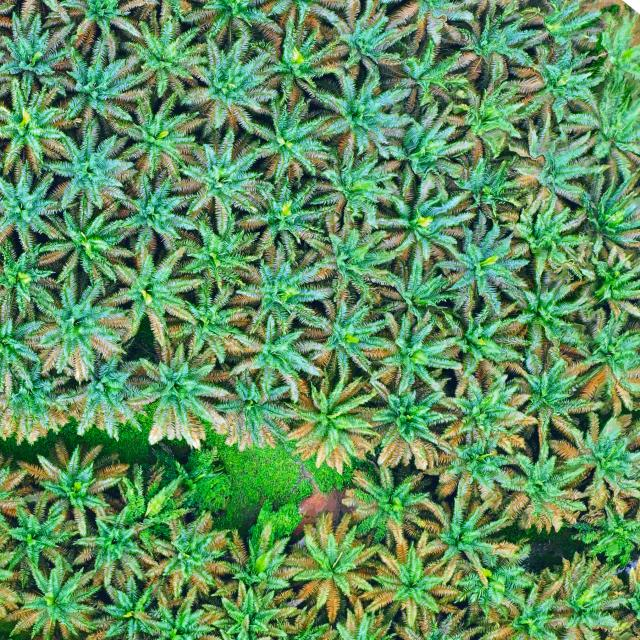Tree: (39, 30, 158, 142), (24, 271, 133, 384), (94, 239, 205, 348), (281, 513, 383, 629), (124, 342, 232, 451), (536, 403, 640, 515), (15, 438, 130, 537), (503, 112, 615, 211), (428, 427, 538, 527), (250, 13, 353, 116), (180, 128, 276, 236), (181, 31, 279, 136), (432, 371, 541, 465), (106, 88, 210, 184), (498, 435, 593, 538), (287, 373, 381, 475), (120, 3, 212, 107), (420, 495, 521, 589), (360, 539, 462, 631), (438, 218, 532, 317), (141, 507, 245, 596), (313, 66, 413, 158), (38, 194, 136, 286), (388, 99, 478, 199), (0, 554, 104, 639), (432, 74, 528, 166), (228, 312, 326, 402), (237, 176, 337, 264), (56, 348, 152, 438), (302, 286, 394, 379), (450, 8, 555, 89), (0, 76, 84, 177), (565, 299, 640, 411), (47, 120, 139, 210), (110, 166, 202, 256), (505, 351, 605, 433), (368, 379, 458, 470), (379, 180, 476, 262), (509, 274, 598, 363), (72, 501, 160, 591), (542, 550, 630, 640), (248, 96, 339, 183), (236, 257, 336, 336), (0, 156, 81, 253), (166, 280, 258, 365), (498, 189, 586, 277), (448, 303, 537, 389), (6, 488, 79, 592), (310, 0, 419, 69), (378, 309, 463, 396), (565, 173, 640, 271), (213, 368, 300, 452), (208, 522, 304, 598), (342, 466, 431, 547), (110, 460, 199, 541), (308, 148, 401, 225), (474, 571, 577, 640), (175, 208, 259, 292), (562, 74, 640, 163), (526, 44, 610, 126), (0, 9, 76, 99), (374, 258, 460, 330), (0, 362, 73, 446), (304, 228, 398, 292), (391, 33, 471, 108), (0, 235, 65, 325), (201, 584, 300, 640), (84, 575, 164, 640), (576, 496, 640, 569), (147, 584, 226, 640), (451, 155, 518, 217), (588, 251, 640, 327)
